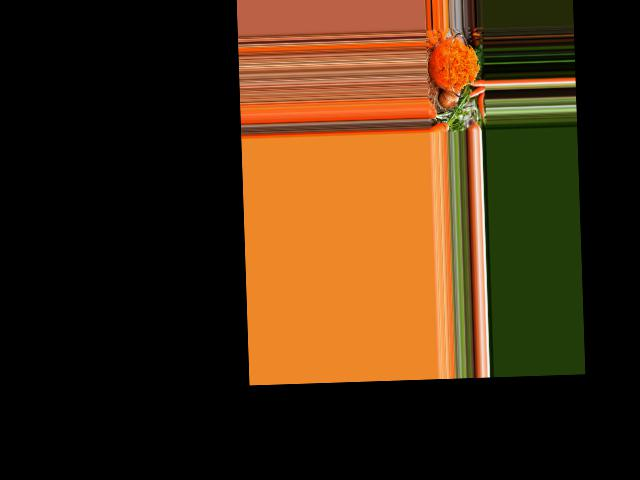carrot: (470, 79, 483, 86)
